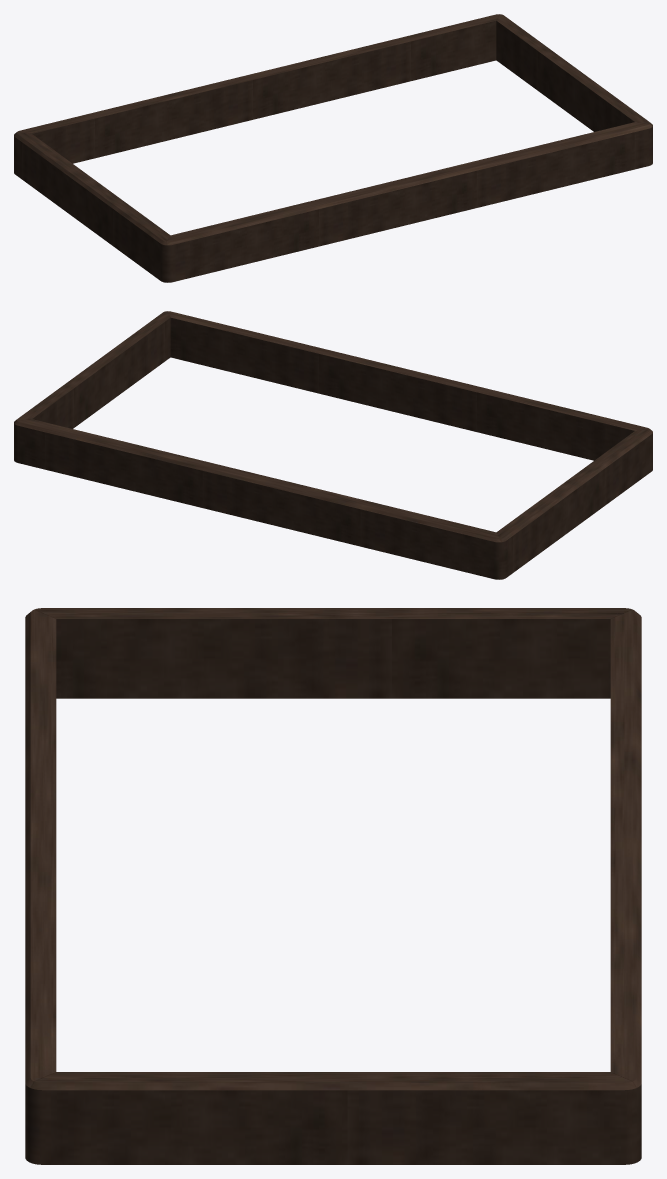
The model's file is rail-caromLarge.glb.
3 renders of one model, top to bottom at view 1: azimuth 30°, elevation 25°; view 2: azimuth 150°, elevation 25°; view 3: azimuth 270°, elevation 25°, orthographic. The views are drawn at different scales.
Visible parts, largest first — view 1: RailOuter_caromLarge, RailInnerWall.001, RailTop_caromLarge; view 2: RailOuter_caromLarge, RailInnerWall.001, RailTop_caromLarge; view 3: RailTop_caromLarge, RailOuter_caromLarge, RailInnerWall.001.
Part boxes in pixels (x1,y1,x2,y2): RailOuter_caromLarge: (14,126,652,282); RailInnerWall.001: (32,20,634,163); RailTop_caromLarge: (14,14,652,245); RailOuter_caromLarge: (14,423,652,579); RailInnerWall.001: (32,317,634,460); RailTop_caromLarge: (14,311,652,542); RailTop_caromLarge: (25,608,641,1090); RailOuter_caromLarge: (25,1084,641,1164); RailInnerWall.001: (56,619,610,698).
Bounding box in the file's own units: 3.11 × 0.241 × 1.69.
2 materials, 2 textured.
